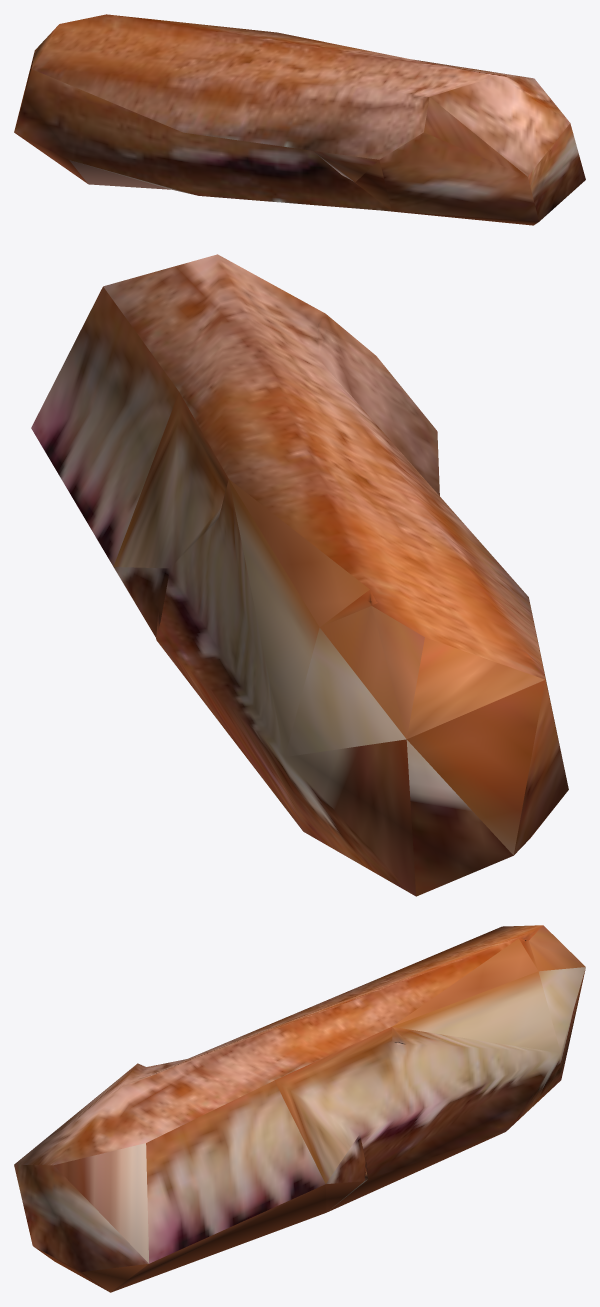
The model's file is eclaire_166.obj.
The picture shows the model from 3 angles, top to bottom: view 1: azimuth 30°, elevation 25°; view 2: azimuth 150°, elevation 25°; view 3: azimuth 270°, elevation 25°; orthographic projection. The views are drawn at different scales.
Size of the model in its own units: 92.55 by 30.58 by 91.13.
1 material, 1 textured.
